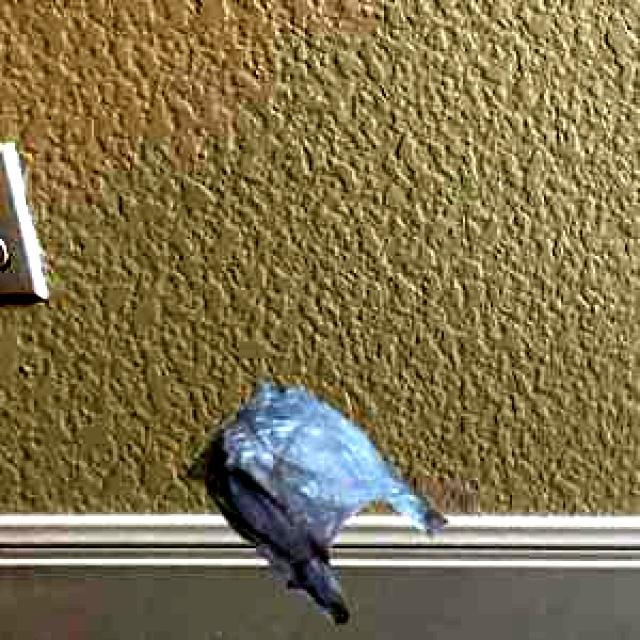Plastic_Bag: (184, 378, 445, 620)
